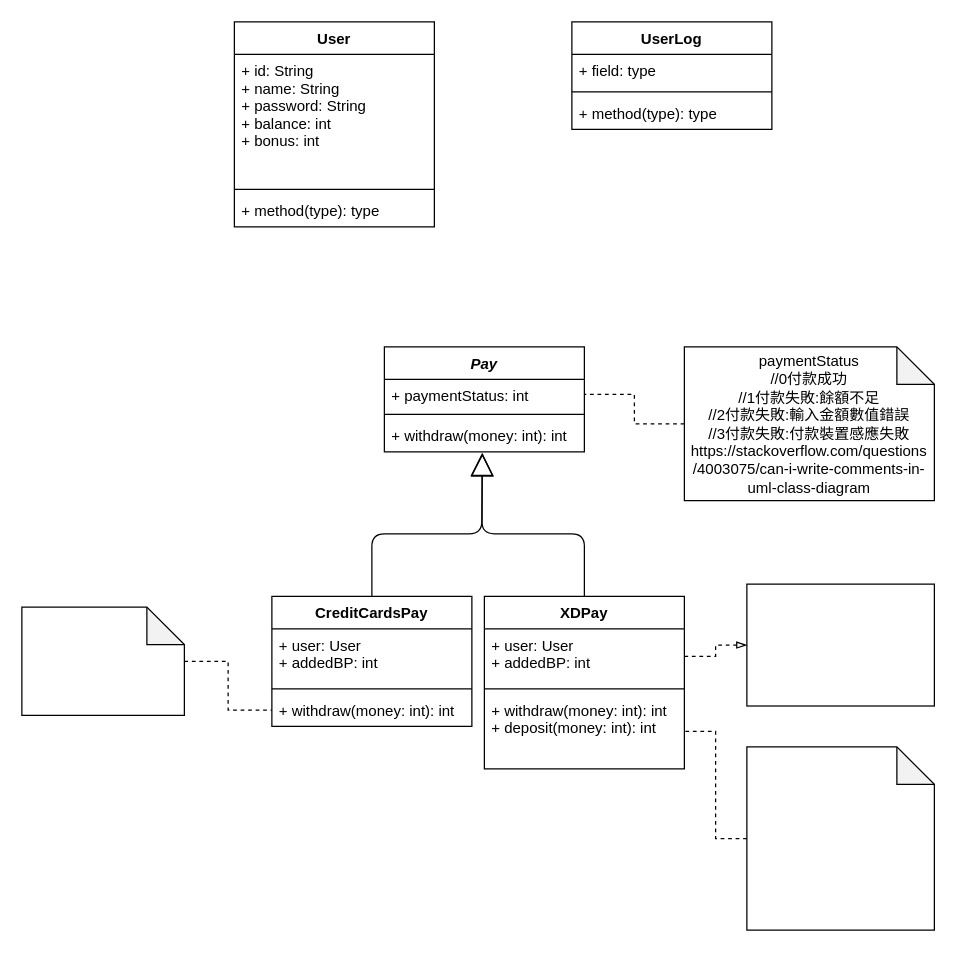
Some shapes in this 956 by 953 pixel diagram are drawn without their labels. Here are the shapes that lost their labels. From the top down, the centre of each, then its label:
At point 102,660: "withdraw: 當每次消費 滿1000元,紅利 額外增加100點".
At point 840,644: "<<Interface>> Deposit + deposit(money: int): int".
At point 840,838: "deposit: 當儲值成功 單筆儲值滿1000元, 紅利增加100點 withdraw:當每次消費 滿500元,紅利 額外增加10點".
